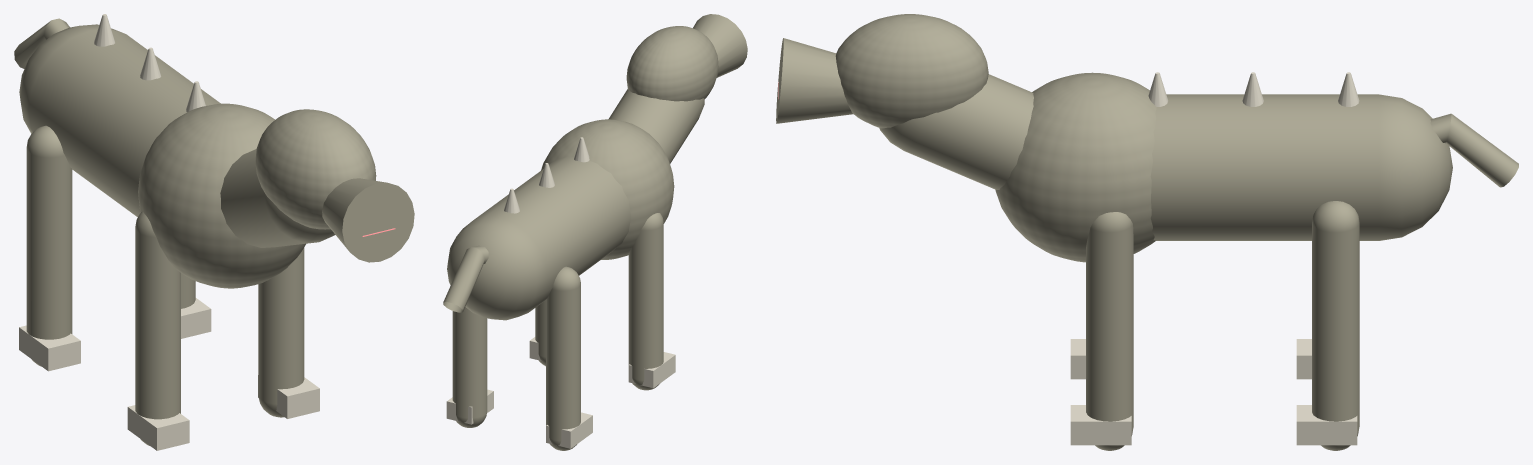
The model's file is MN_hound.fbx.
3 views of the same model, side by side, from view 1: azimuth 30°, elevation 25°; view 2: azimuth 150°, elevation 25°; view 3: azimuth 270°, elevation 25° (orthographic). The views are drawn at different scales.
Parts seen in each view (by area): view 1: MN_hound; view 2: MN_hound; view 3: MN_hound.
Boxes of the visible parts, x1,y1,x2,y2 form: MN_hound: (14, 14, 414, 450); MN_hound: (443, 14, 747, 450); MN_hound: (776, 14, 1518, 450).
Size of the model in its own units: 0.45 by 1.01 by 1.71.
